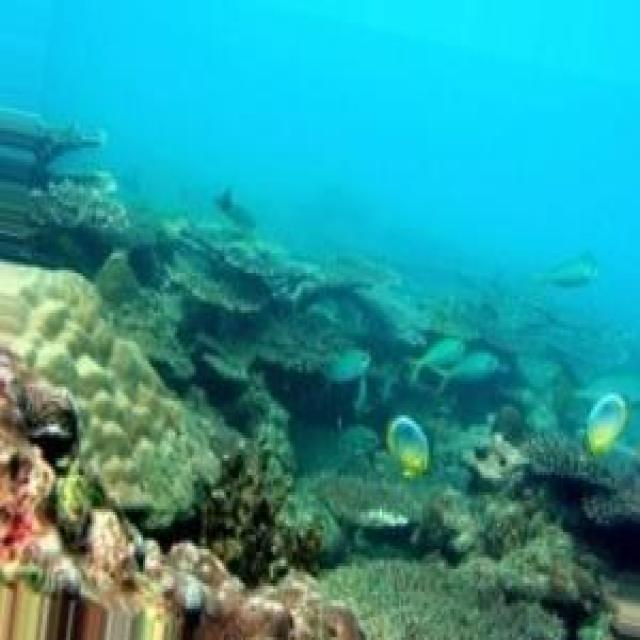bleached coral: (143, 543, 303, 640), (194, 464, 305, 589), (75, 361, 151, 515), (0, 265, 98, 375), (0, 347, 81, 466), (339, 589, 484, 640), (422, 529, 546, 572), (465, 435, 531, 501), (339, 506, 416, 532)
healthy coral: (175, 210, 405, 321), (96, 256, 254, 393), (0, 111, 154, 245), (535, 393, 640, 558), (252, 358, 358, 455), (427, 330, 544, 401)
